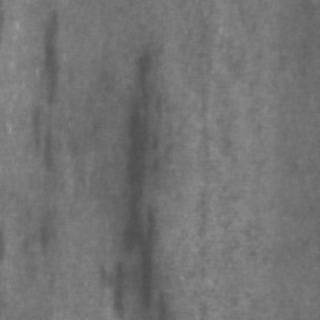inclusion: (103, 45, 165, 317), (32, 5, 68, 107), (24, 100, 60, 176)
